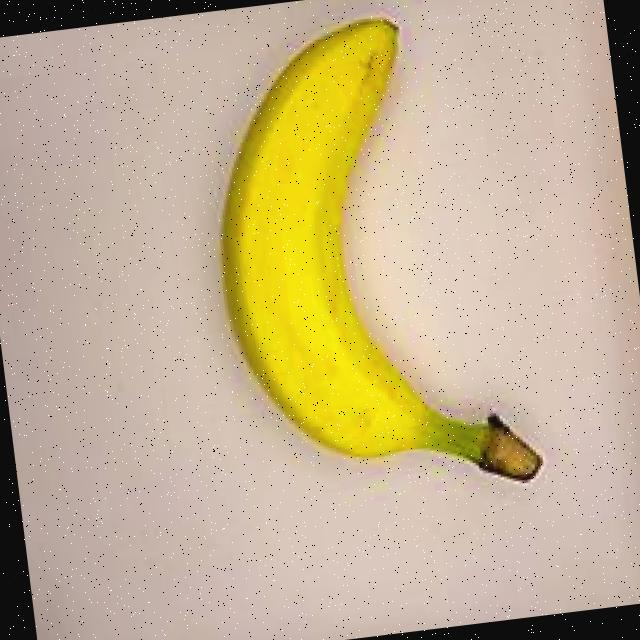Ripe: (149, 0, 588, 545)
